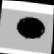correct: (15, 14, 46, 42)
